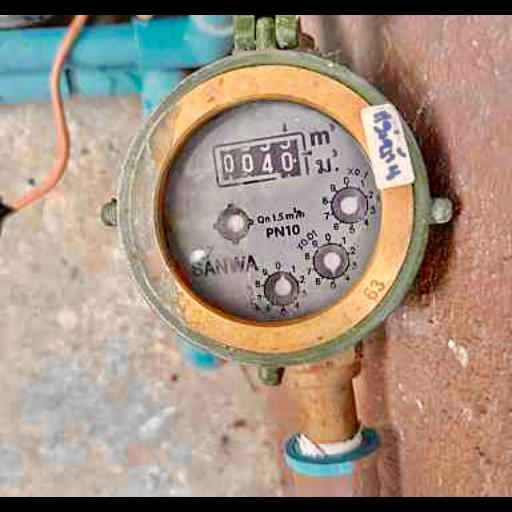0: (274, 139, 303, 179), (236, 146, 258, 179), (219, 149, 240, 180)
4: (254, 143, 278, 176)
border_water_meter_number: (210, 131, 310, 189)
